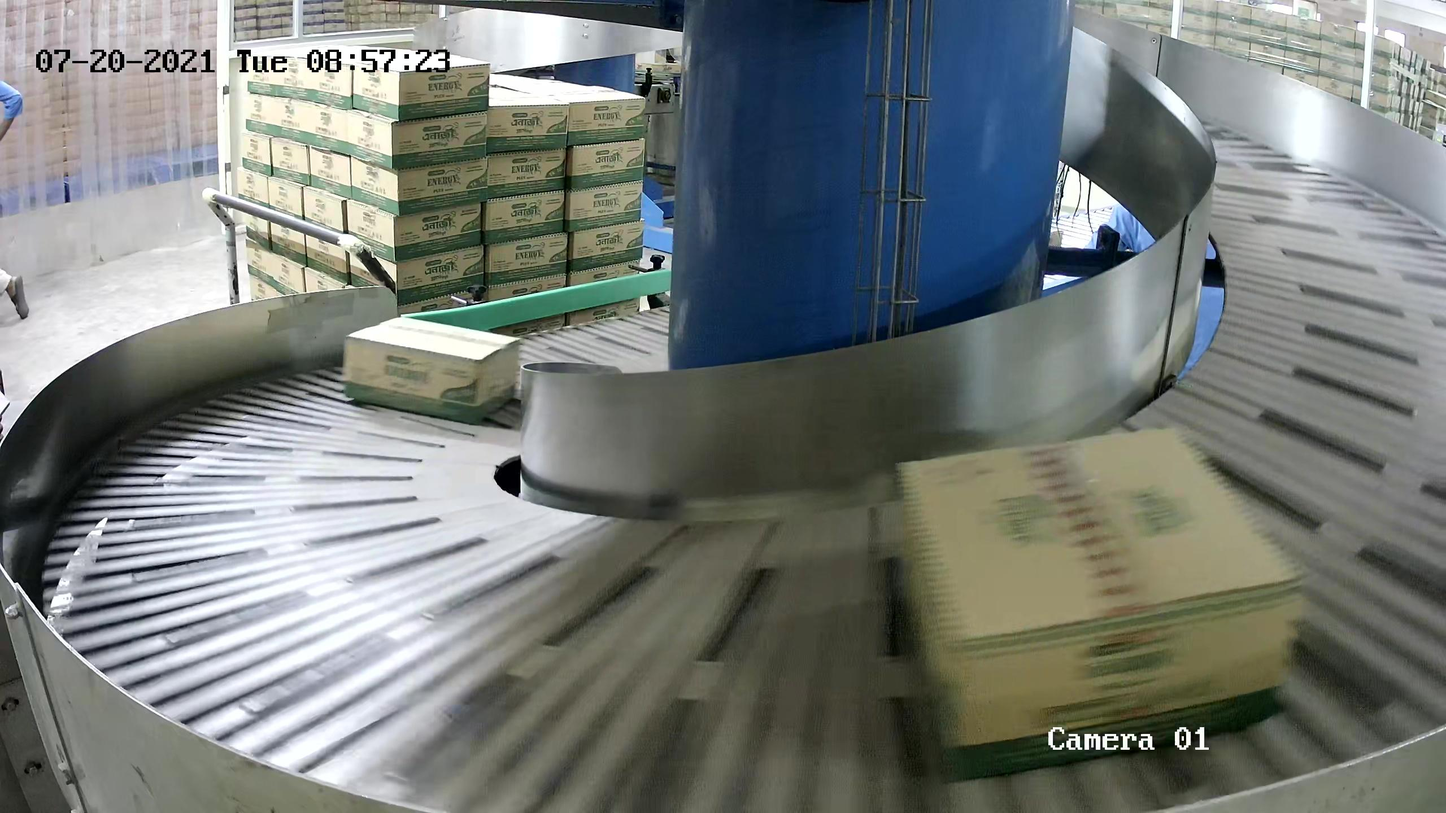Box: (889, 420, 1310, 778), (341, 312, 523, 428)
